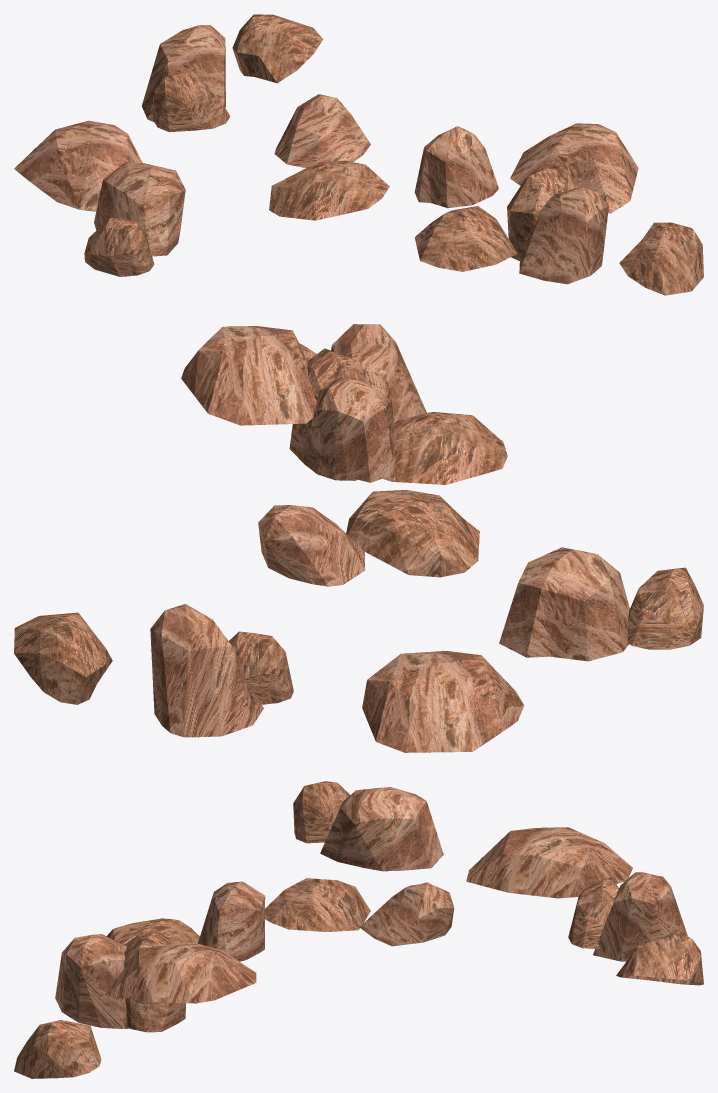
File: des_rockgp2_27.obj
The picture shows the model from 3 angles, top to bottom: view 1: azimuth 30°, elevation 25°; view 2: azimuth 150°, elevation 25°; view 3: azimuth 270°, elevation 25°; orthographic projection. The views are drawn at different scales.
Visible parts, largest first — view 1: des_rockgp2_27; view 2: des_rockgp2_27; view 3: des_rockgp2_27.
Boxes of the visible parts, box(x1,y1,x2,y2) form: des_rockgp2_27: box(14, 14, 703, 295); des_rockgp2_27: box(14, 324, 703, 752); des_rockgp2_27: box(14, 781, 703, 1078).
Size of the model in its own units: 137 by 31.93 by 161.
2 materials, 2 textured.
